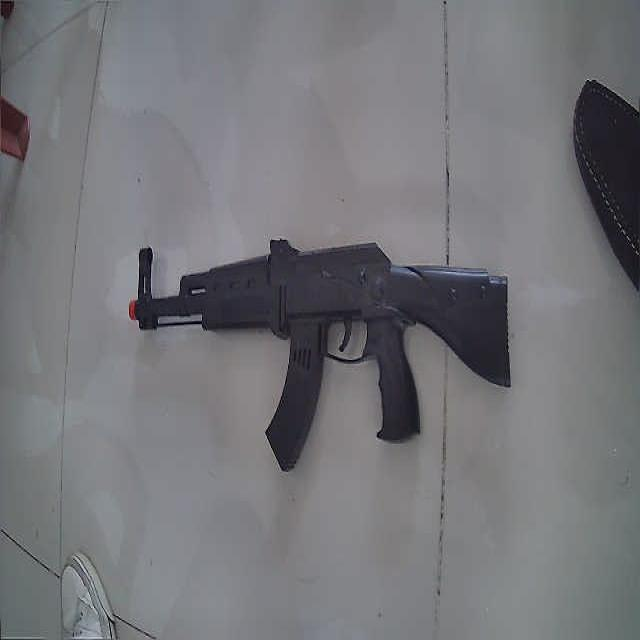rifle: (129, 239, 511, 472)
